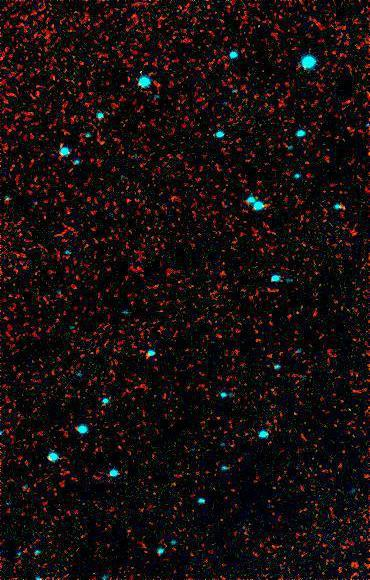star: (41, 133, 71, 163)
